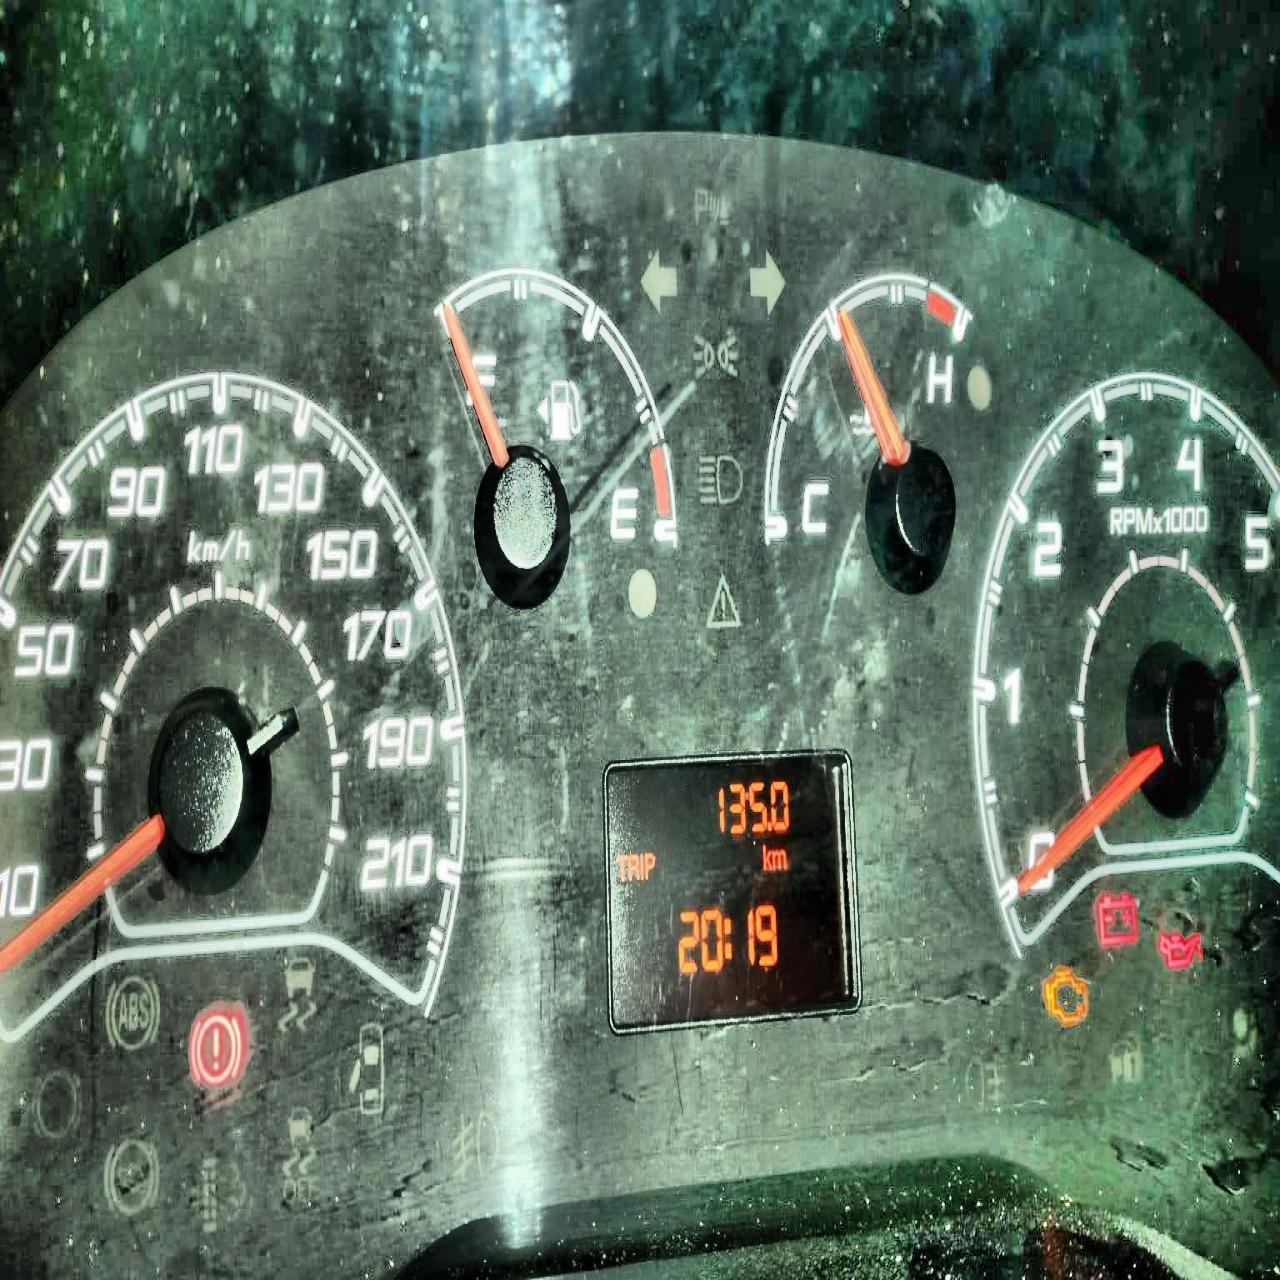-: (767, 821, 771, 830)
0: (700, 907, 722, 971), (769, 779, 789, 830)
1: (745, 907, 754, 966), (717, 785, 723, 832)
2: (678, 910, 699, 972)
3: (728, 782, 745, 832)
5: (748, 781, 767, 830)
9: (755, 904, 777, 966)
X: (722, 915, 731, 959), (772, 847, 787, 871), (627, 853, 639, 880), (644, 852, 655, 878), (762, 842, 771, 871), (617, 855, 626, 881), (639, 852, 642, 878)
odometer: (601, 748, 863, 1037)
